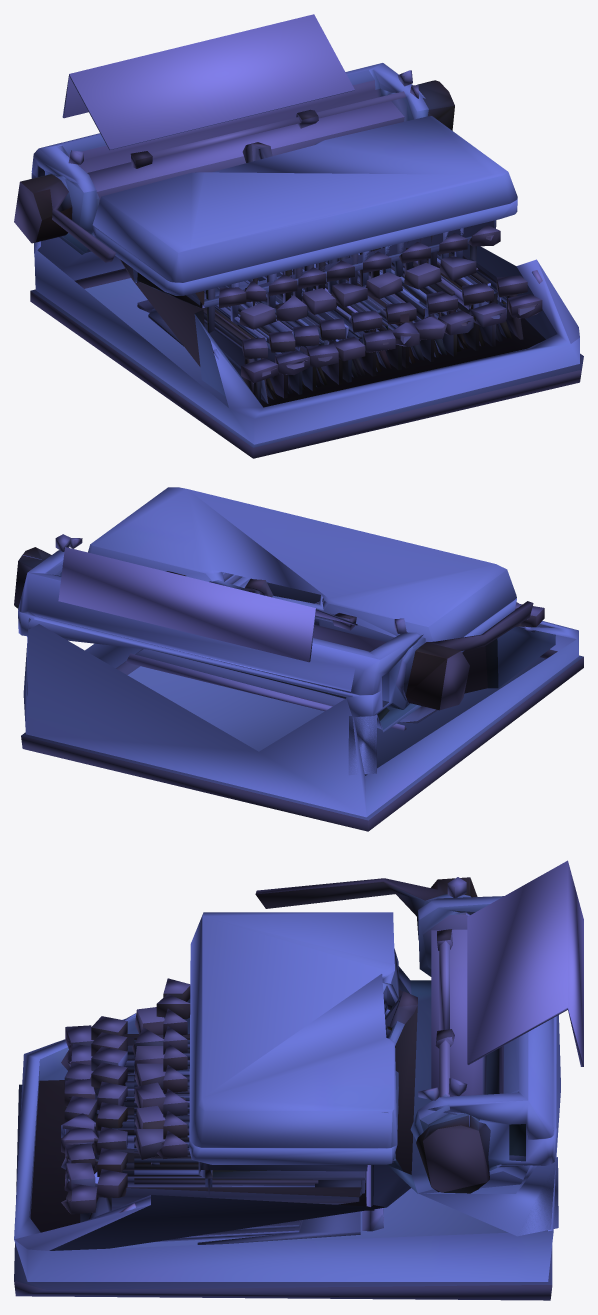
The model's file is model.progressive.glb.
3 views of the same model, one above another, from view 1: azimuth 30°, elevation 25°; view 2: azimuth 150°, elevation 25°; view 3: azimuth 270°, elevation 25° (orthographic). The views are drawn at different scales.
Visible parts, largest first — view 1: material; view 2: material; view 3: material.
Boxes of the visible parts, x1,y1,x2,y2 form: material: [14, 14, 583, 458]; material: [14, 487, 583, 831]; material: [14, 860, 583, 1300].
Size of the model in its own units: 1.88 by 0.9204 by 1.8.
1 material, 1 textured.
